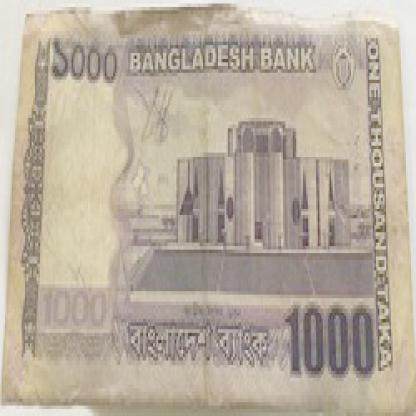One Thousand taka: (276, 301, 380, 378), (50, 35, 120, 90), (42, 284, 114, 333)
